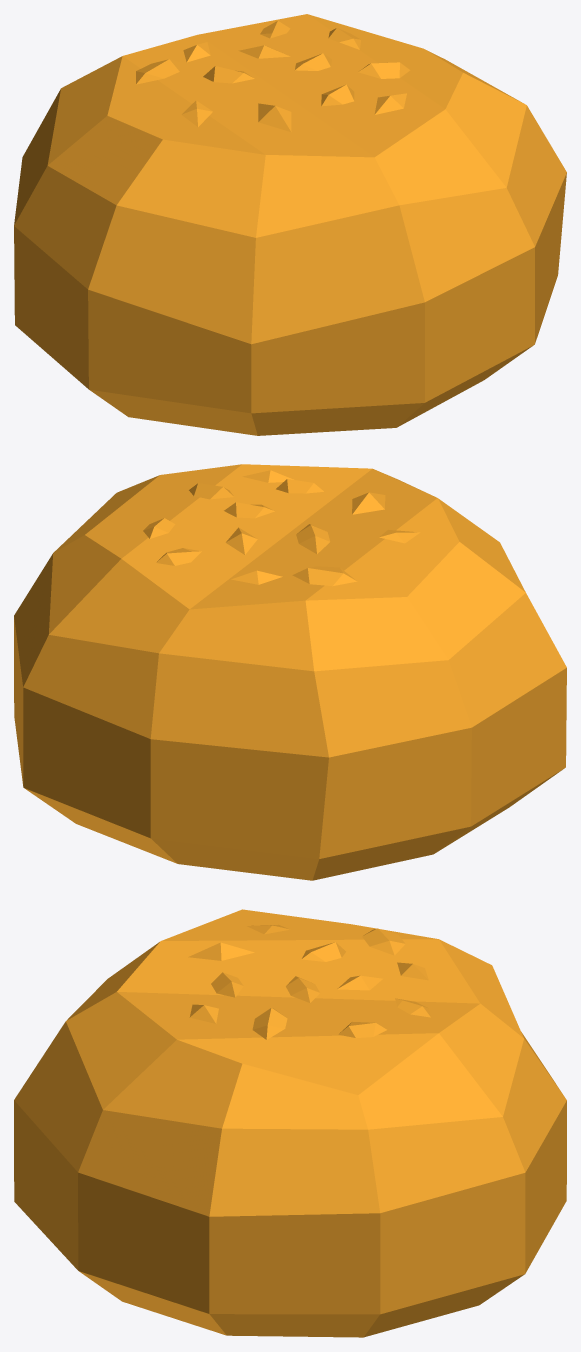
The model's file is SM_Bread_Seeded.fbx.
3 views of the same model, one above another, from view 1: azimuth 30°, elevation 25°; view 2: azimuth 150°, elevation 25°; view 3: azimuth 270°, elevation 25° (orthographic).
Visible parts, largest first — view 1: bread-seeded; view 2: bread-seeded; view 3: bread-seeded.
Part boxes in pixels (x1,y1,x2,y2): bread-seeded: (14, 14, 566, 435); bread-seeded: (14, 464, 566, 880); bread-seeded: (14, 909, 566, 1337).
Bounding box in the file's own units: 0.2479 × 0.1381 × 0.2456.
